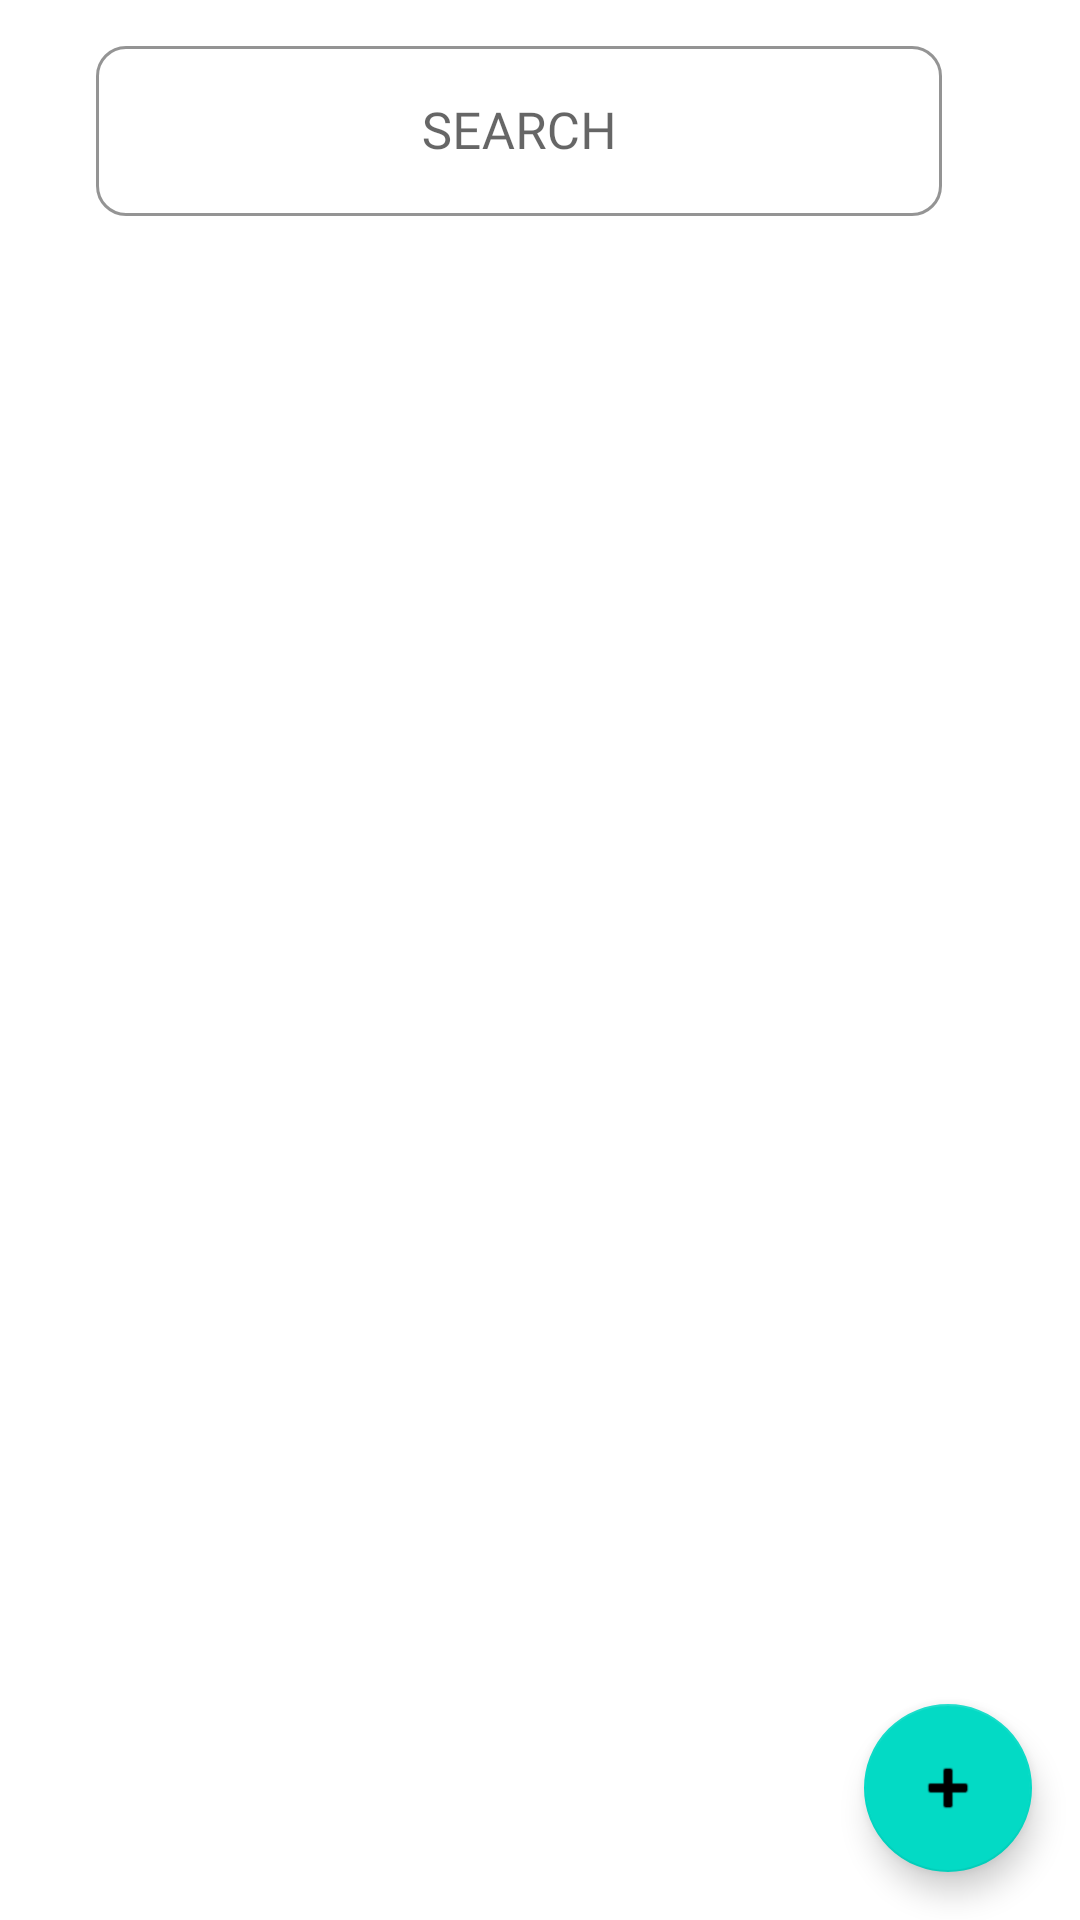

Icon click points for this 1080 × 1920 phone screenshot, format (x,y):
Ajouter un nouveau contact: (948,1788)
